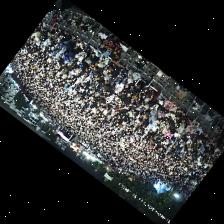person: (134, 72, 155, 90), (73, 44, 90, 61), (76, 57, 90, 72), (146, 86, 159, 102), (140, 96, 153, 110), (107, 60, 121, 73), (89, 47, 101, 61), (57, 50, 72, 61), (83, 61, 94, 76), (164, 99, 176, 112), (93, 61, 106, 73), (147, 119, 158, 133), (55, 39, 70, 49), (128, 69, 140, 81), (174, 108, 185, 121), (104, 69, 119, 78), (59, 31, 71, 42), (98, 53, 108, 66), (75, 36, 84, 50), (114, 80, 124, 92), (127, 85, 137, 97), (106, 82, 115, 95), (120, 66, 128, 80), (99, 82, 110, 92), (124, 78, 134, 89), (56, 44, 66, 55), (150, 102, 160, 113), (103, 75, 115, 84), (137, 90, 146, 102), (165, 116, 174, 128), (200, 131, 209, 143), (175, 122, 184, 134), (40, 37, 50, 47), (121, 96, 131, 106), (157, 112, 165, 124), (149, 111, 157, 123), (114, 69, 121, 82), (194, 124, 201, 137), (205, 136, 214, 146), (186, 124, 193, 136), (164, 129, 171, 141), (131, 92, 137, 104), (47, 26, 56, 34), (158, 94, 166, 103), (167, 112, 175, 121), (106, 93, 114, 102), (160, 105, 166, 116), (159, 121, 165, 131), (174, 120, 180, 127), (45, 24, 51, 31), (41, 22, 45, 30)
